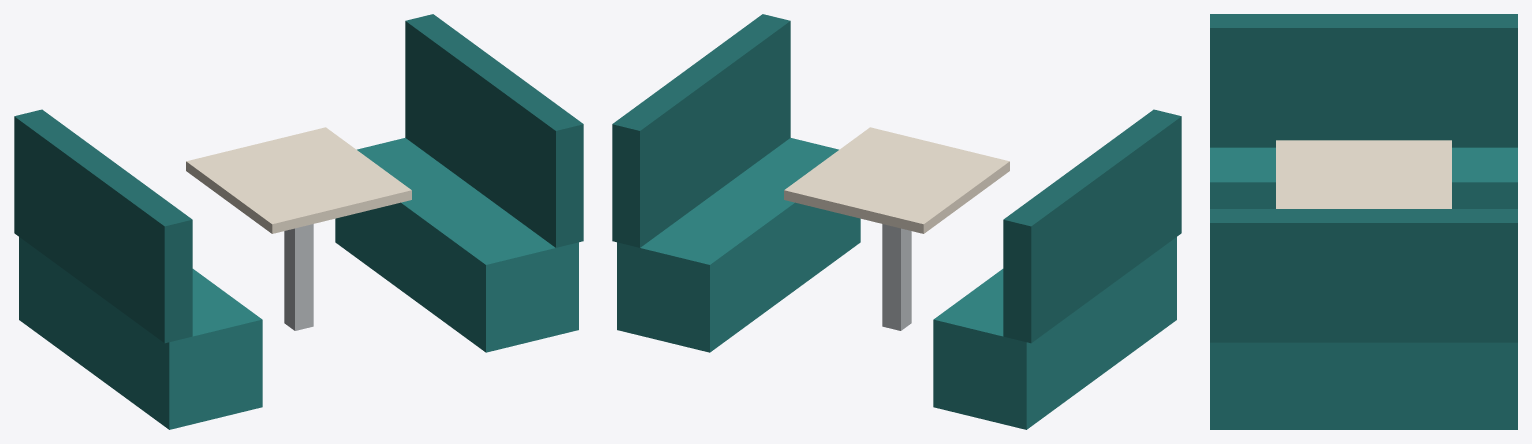
File: booth_2.glb
The picture shows the model from 3 angles, left to right: view 1: azimuth 30°, elevation 25°; view 2: azimuth 150°, elevation 25°; view 3: azimuth 270°, elevation 25°; orthographic projection. The views are drawn at different scales.
Visible parts, largest first — view 1: Box5, Box6, Box4, Box3, Box1, Box2; view 2: Box5, Box6, Box4, Box3, Box1, Box2; view 3: Box6, Box4, Box5, Box1, Box3.
Boxes of the visible parts, box(x1,y1,x2,y2) form: Box5: box(335, 138, 578, 352); Box6: box(405, 14, 583, 247); Box4: box(14, 109, 192, 343); Box3: box(19, 237, 262, 429); Box1: box(186, 127, 411, 233); Box2: box(284, 224, 313, 330); Box5: box(617, 138, 860, 352); Box6: box(612, 14, 790, 247); Box4: box(1003, 109, 1181, 343); Box3: box(933, 237, 1176, 429); Box1: box(784, 127, 1009, 233); Box2: box(882, 224, 911, 330); Box6: box(1210, 209, 1517, 342); Box4: box(1210, 14, 1517, 147); Box5: box(1210, 342, 1517, 429); Box1: box(1276, 140, 1451, 208); Box3: box(1210, 147, 1517, 208).
Size of the model in its own units: 2.25 by 1.05 by 1.4.
